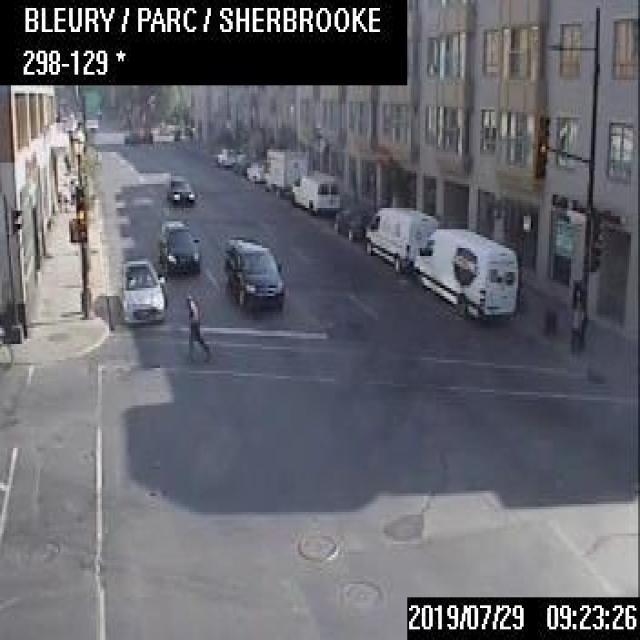pedestrian: (184, 291, 209, 360), (568, 285, 584, 352)
vehicle: (411, 227, 518, 315), (364, 205, 438, 272), (222, 232, 282, 309), (116, 257, 164, 320), (260, 146, 311, 194), (158, 218, 199, 272), (290, 170, 340, 212), (332, 205, 372, 240), (164, 173, 194, 205), (231, 150, 249, 172), (215, 146, 234, 166), (245, 158, 262, 180)
